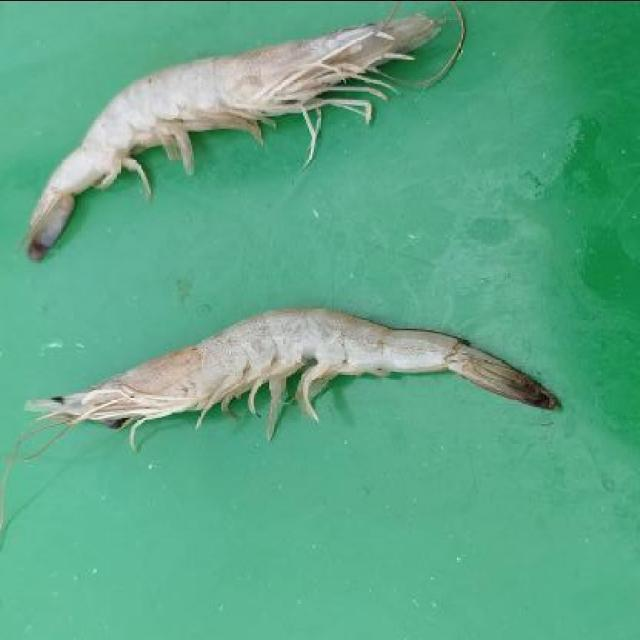shrimp: (12, 5, 454, 259), (18, 301, 566, 429)
